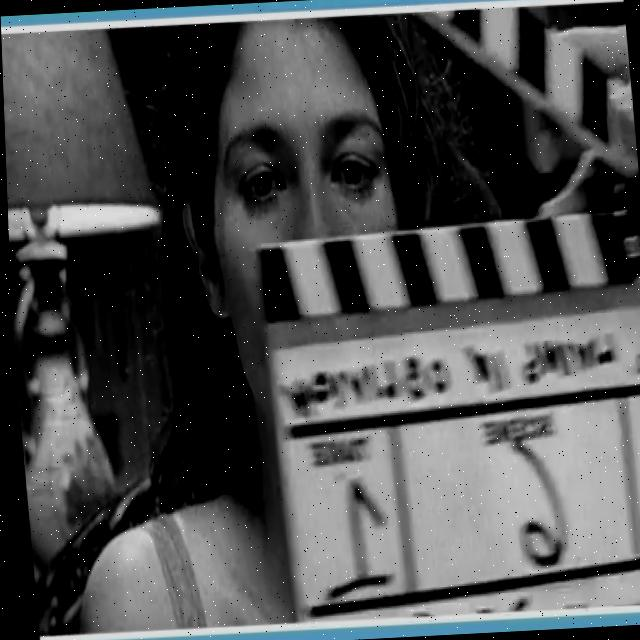Clapperboard: (257, 210, 640, 640), (412, 0, 637, 152)
